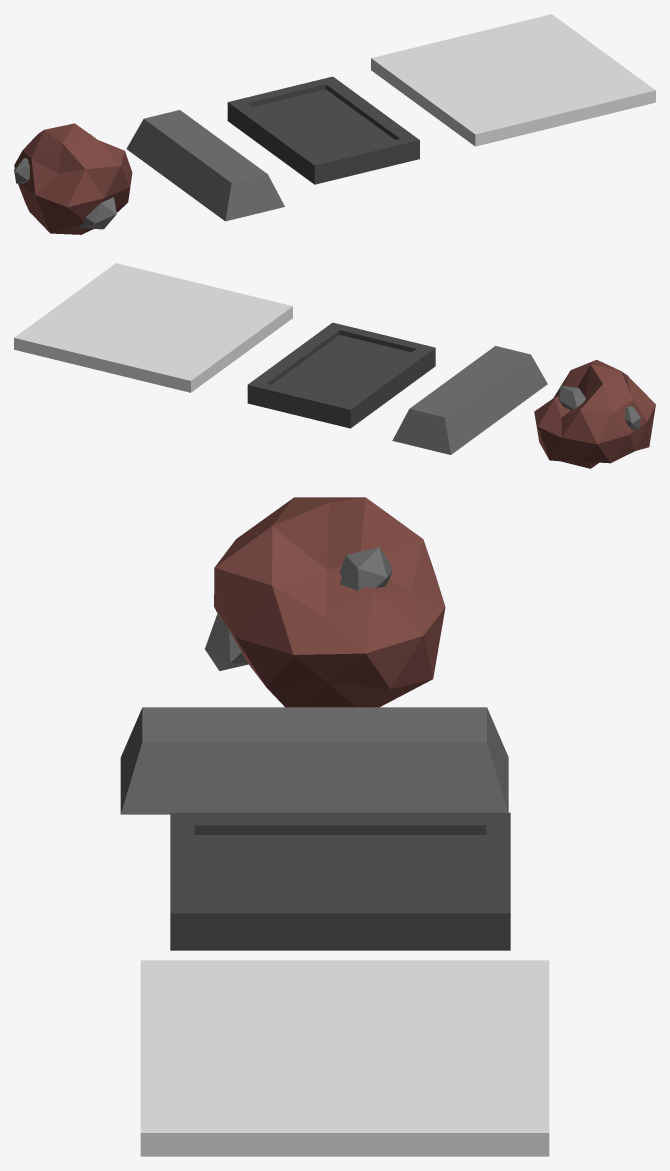
Rendered from More_Elements.fbx.
The picture shows the model from 3 angles, top to bottom: view 1: azimuth 30°, elevation 25°; view 2: azimuth 150°, elevation 25°; view 3: azimuth 270°, elevation 25°; orthographic projection. The views are drawn at different scales.
Visible parts, largest first — view 1: Glass, Platin, Iron Ore, Iron Ingot; view 2: Glass, Platin, Iron Ore, Iron Ingot; view 3: Glass, Platin, Iron Ingot, Iron Ore.
Boxes of the visible parts, <box> form: Glass: <box>371,14,655,146</box>; Platin: <box>227,76,419,184</box>; Iron Ore: <box>14,123,132,234</box>; Iron Ingot: <box>126,110,284,221</box>; Glass: <box>14,263,292,392</box>; Platin: <box>247,322,435,428</box>; Iron Ore: <box>534,360,655,468</box>; Iron Ingot: <box>392,346,547,454</box>; Glass: <box>140,960,549,1156</box>; Platin: <box>170,812,510,950</box>; Iron Ingot: <box>120,707,508,814</box>; Iron Ore: <box>205,497,445,707</box>.
Bounding box in the file's own units: 149 × 25.83 × 48.05.
